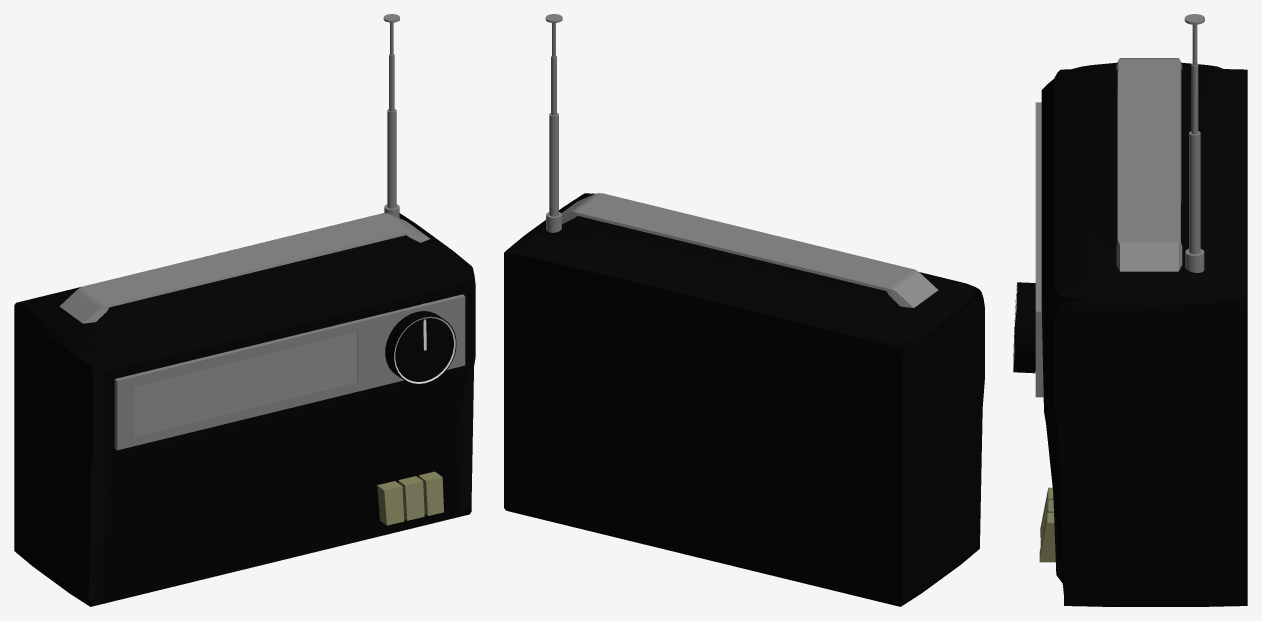
The model's file is radio.fbx.
3 renders of one model, left to right at view 1: azimuth 30°, elevation 25°; view 2: azimuth 150°, elevation 25°; view 3: azimuth 270°, elevation 25°, orthographic. The views are drawn at different scales.
Visible parts, largest first — view 1: polySurface14, polySurface3, polySurface7, polySurface8, polySurface9; view 2: polySurface14; view 3: polySurface14, polySurface3, polySurface9.
Boxes of the visible parts, x1,y1,x2,y2 form: polySurface14: (14, 14, 475, 606); polySurface3: (385, 311, 456, 384); polySurface7: (377, 481, 404, 525); polySurface8: (398, 476, 424, 520); polySurface9: (419, 471, 443, 515); polySurface14: (504, 14, 984, 606); polySurface14: (1035, 14, 1247, 606); polySurface3: (1013, 282, 1035, 373); polySurface9: (1039, 513, 1055, 562).
Size of the model in its own units: 12.71 by 14.72 by 5.47.
